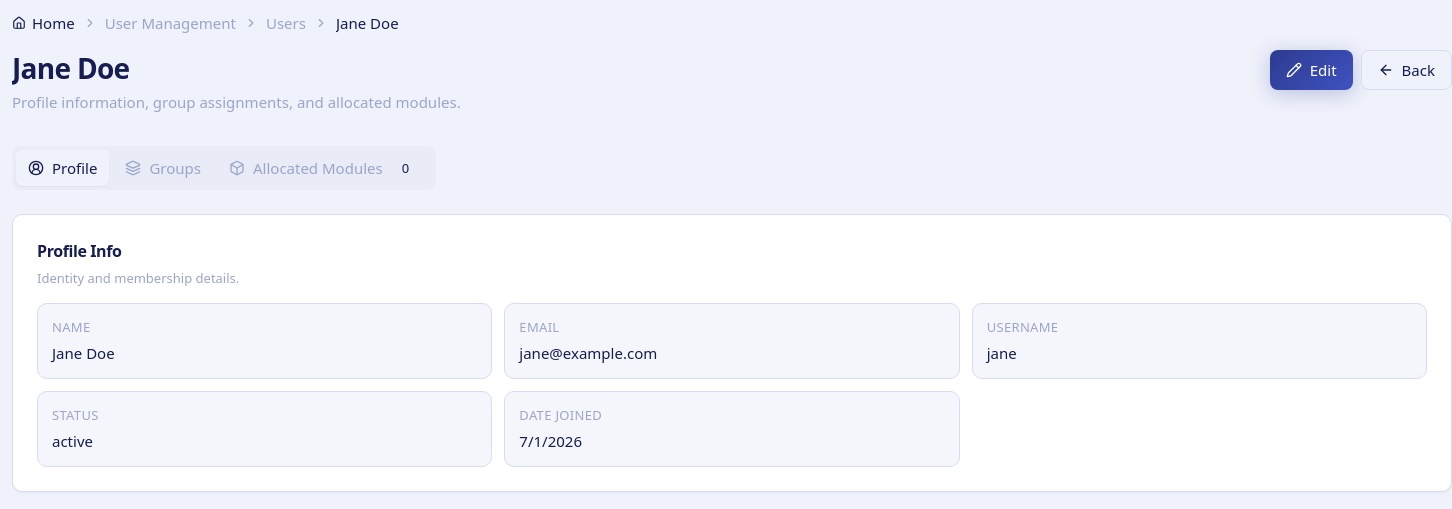
it: UserMemberView › loads profile, assigned groups, and allocated modules
Expected: the text "Profile Info" is shown, [37,240,122,262]
Expected: the link "Jane Doe" is shown, [336,12,399,34]
Press the mouse on the tab "Groups" at [163, 168], box [113,150,213,186]
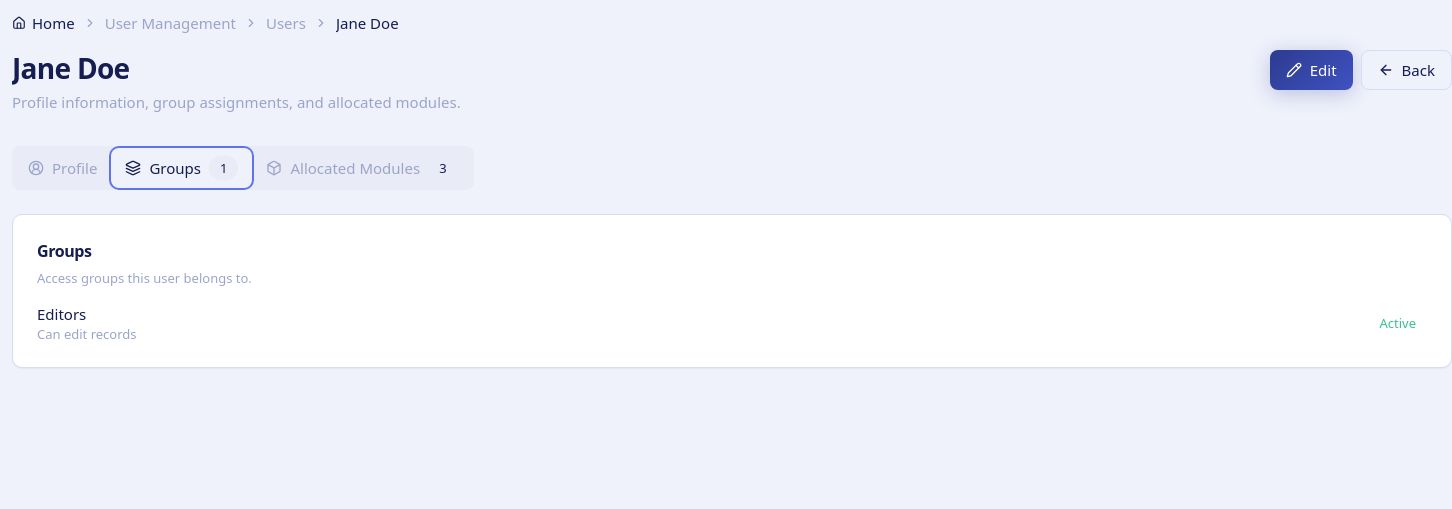
Expected: the text "Editors" is shown, [37,304,86,324]
Press the mouse on the tab "Allocated Modules 3" at [362, 168], box [254,150,470,186]
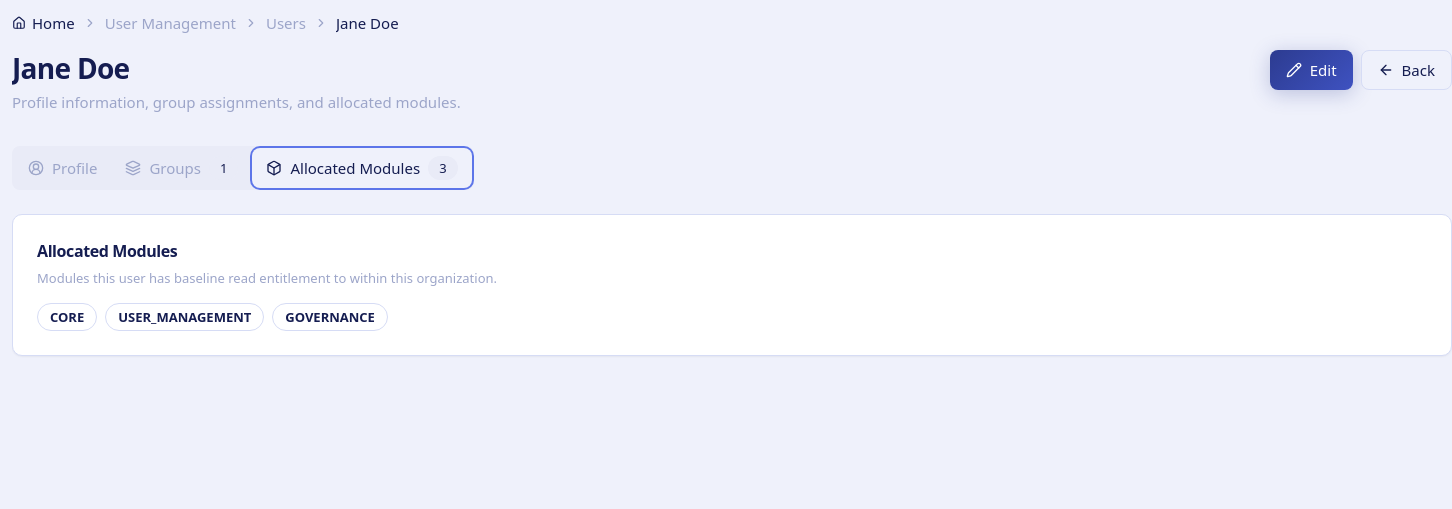
Expected: the text "GOVERNANCE" is shown, [272,303,388,331]
